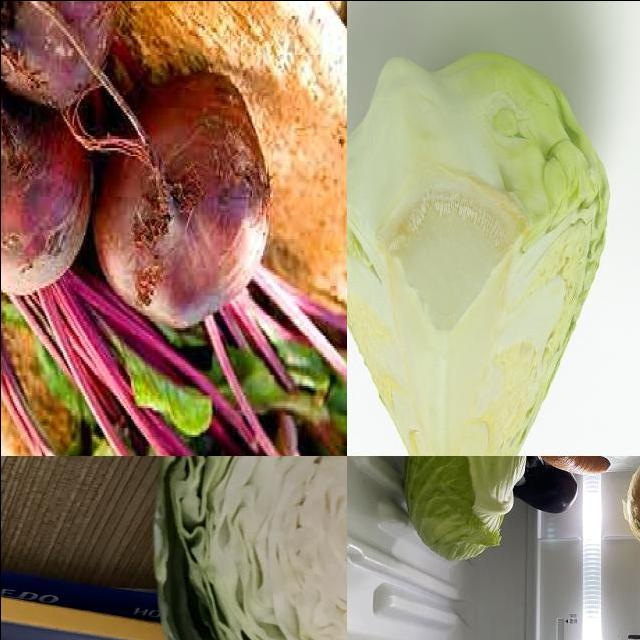beet: (96, 76, 273, 331), (1, 90, 88, 291), (1, 1, 130, 109)
cabbage: (347, 47, 617, 456), (150, 456, 347, 640), (402, 456, 529, 560)
carrot: (532, 456, 613, 477)
eggplant: (513, 461, 577, 516)
